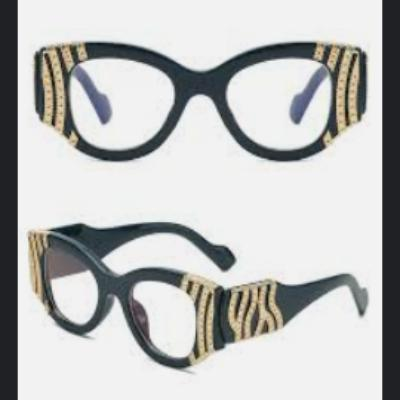glasses: (23, 214, 373, 376), (29, 32, 370, 173)
